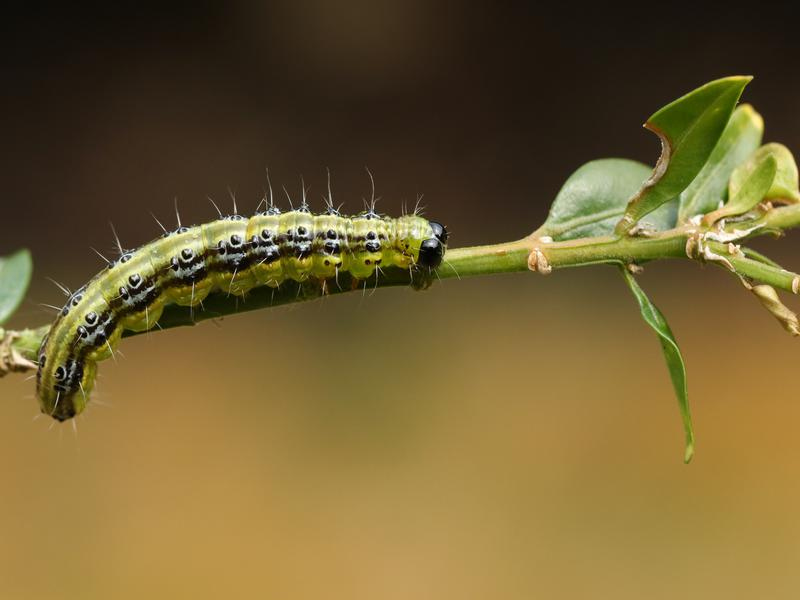Rice_horned_caterpillar: (19, 193, 465, 434)
